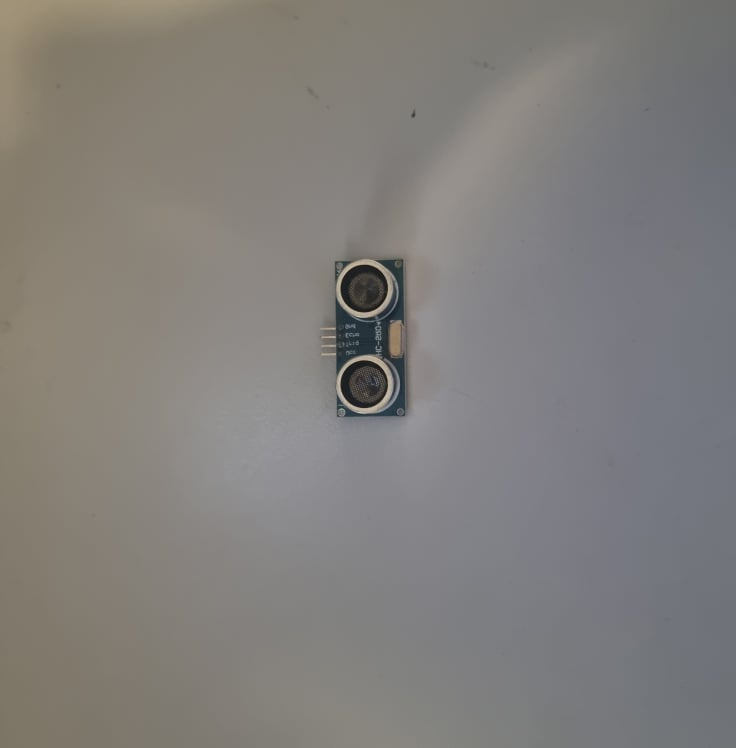SENSOR: (334, 256, 406, 418)
